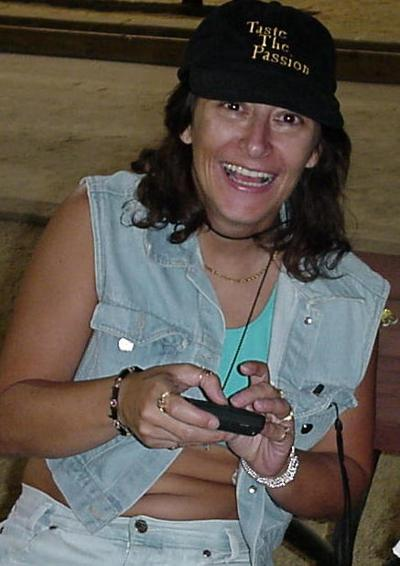person: (2, 5, 379, 566)
